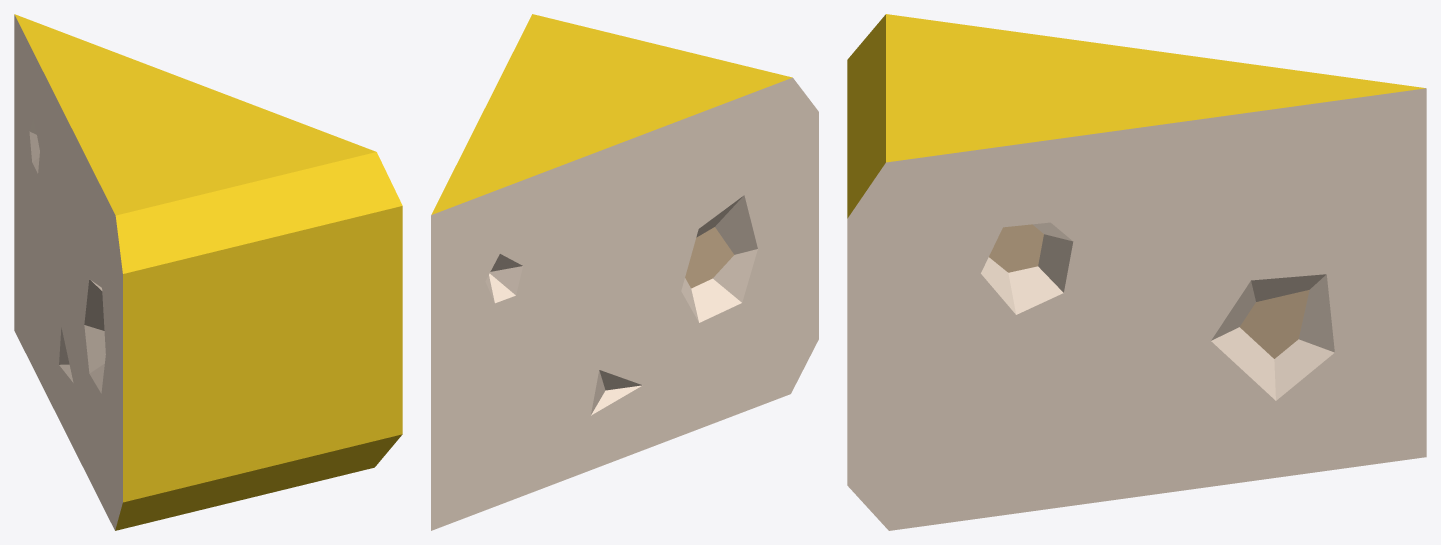
The model's file is food_cheese-slice.fbx.
3 views of the same model, side by side, from view 1: azimuth 30°, elevation 25°; view 2: azimuth 150°, elevation 25°; view 3: azimuth 270°, elevation 25° (orthographic). The views are drawn at different scales.
Visible parts, largest first — view 1: food_cheese_slice; view 2: food_cheese_slice; view 3: food_cheese_slice.
Part boxes in pixels (box(x1,y1,x2,y2)): food_cheese_slice: box(14, 14, 402, 530); food_cheese_slice: box(431, 14, 818, 530); food_cheese_slice: box(847, 14, 1426, 530).
Bounding box in the file's own units: 130 × 140 × 200.
